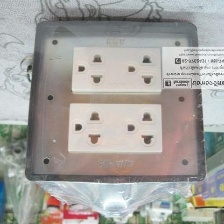three_eye_plug: (18, 14, 202, 188)
